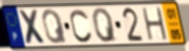2: (121, 5, 145, 44)
C: (69, 8, 94, 45)
H: (140, 6, 170, 42)
Q: (41, 8, 69, 46), (91, 7, 119, 44)
X: (17, 9, 49, 46)
